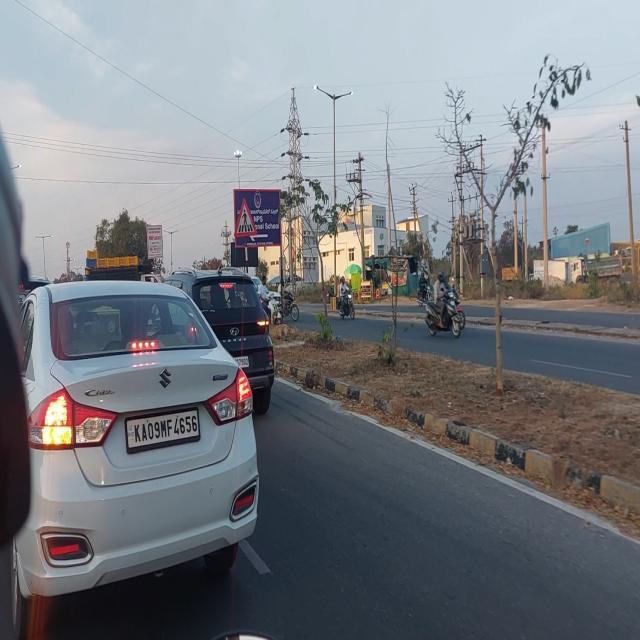bien_cam: (233, 196, 257, 238)
